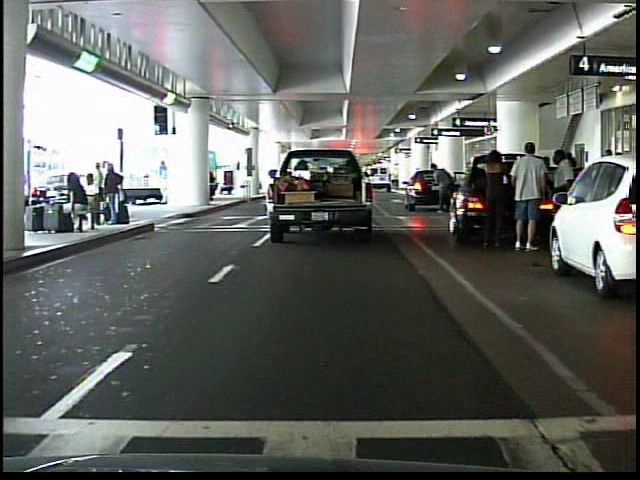person: (507, 139, 548, 253), (474, 139, 512, 255), (546, 144, 580, 255), (427, 157, 453, 218), (156, 160, 172, 205)
